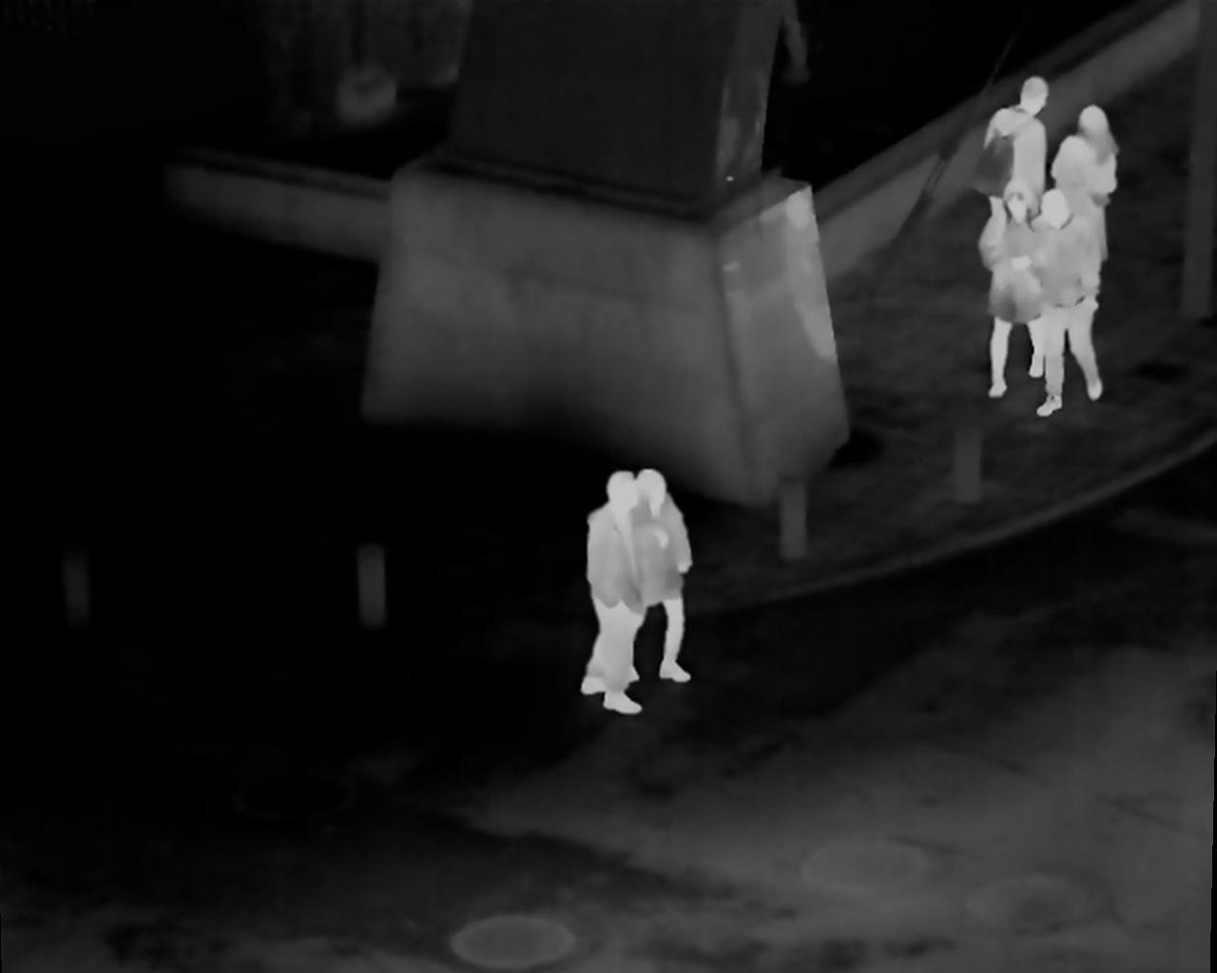person: (1028, 199, 1101, 436), (979, 193, 1044, 390), (982, 82, 1075, 216), (640, 468, 691, 689), (1050, 101, 1118, 258), (592, 468, 639, 689)
